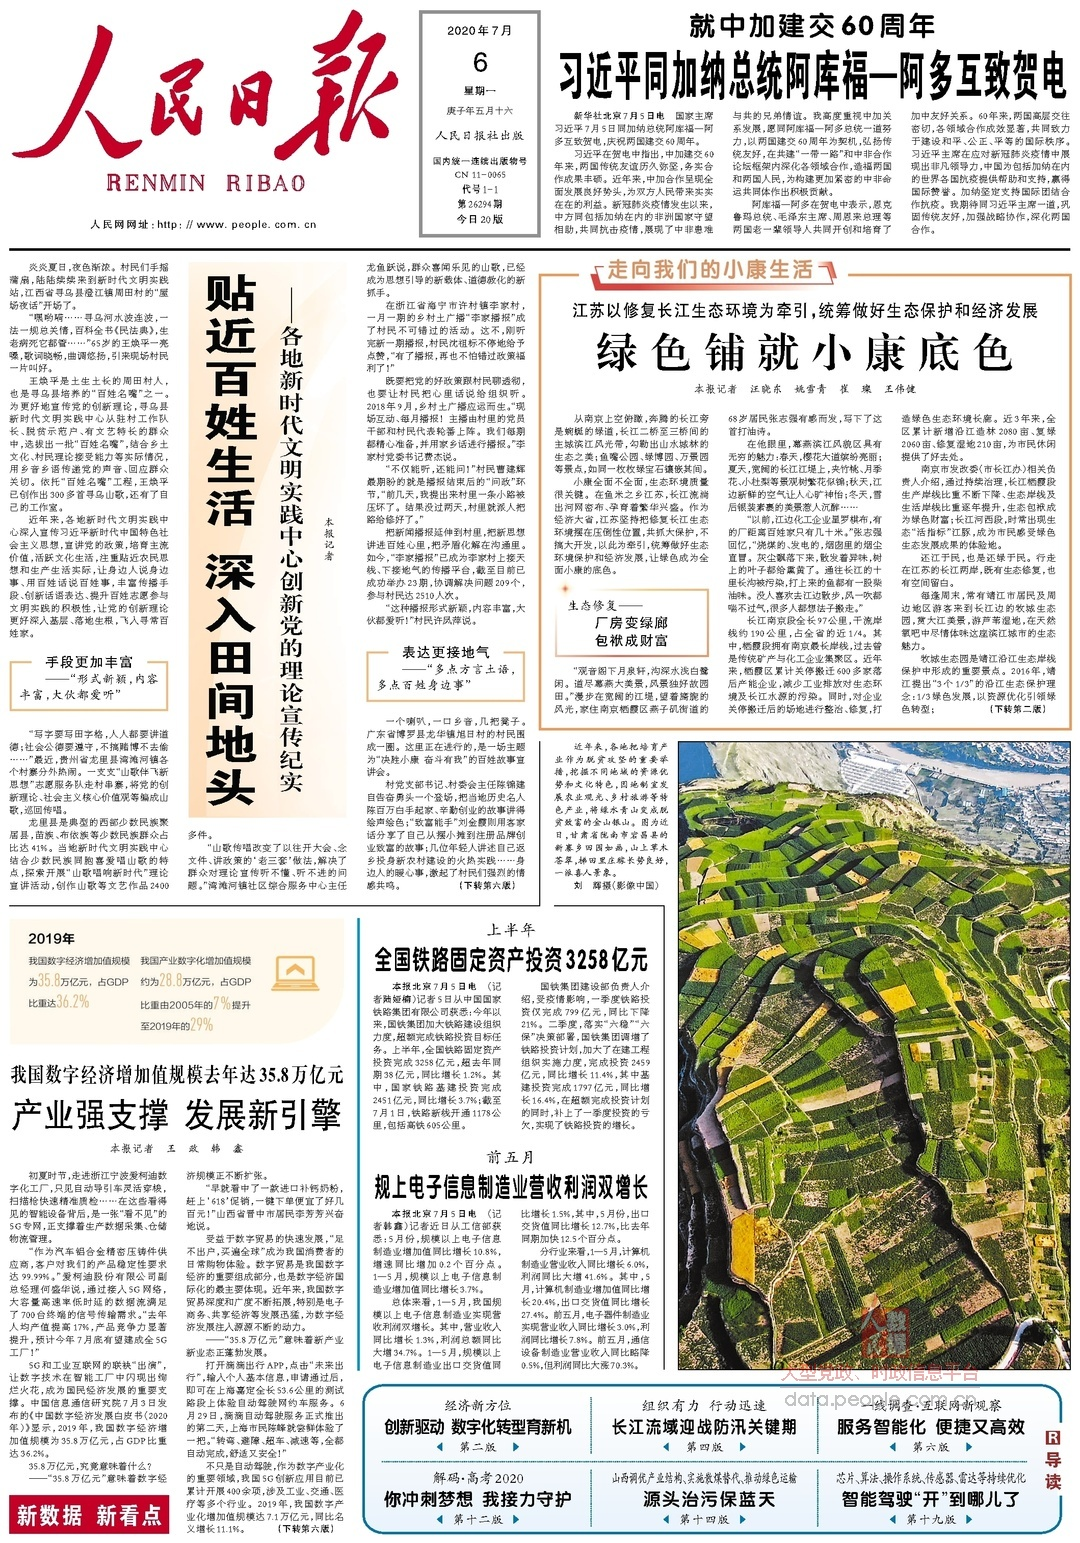pic: (673, 736, 1076, 1377)
